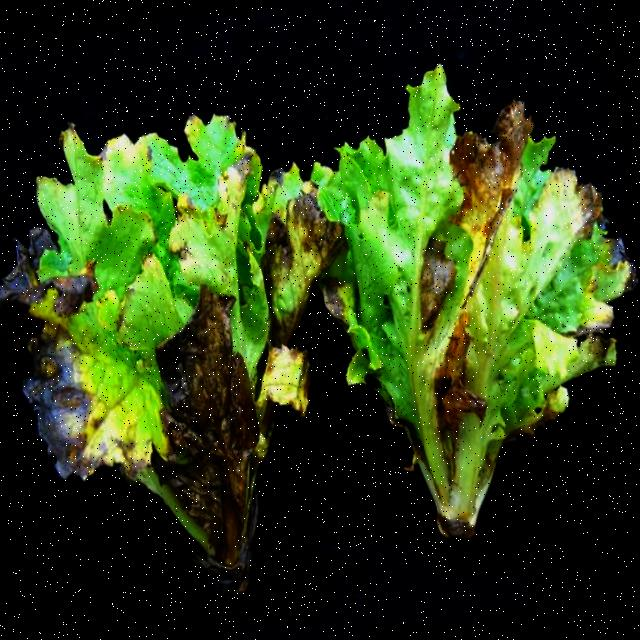Downy_mildew_on_lettuce: (0, 92, 354, 629), (295, 33, 640, 576)
